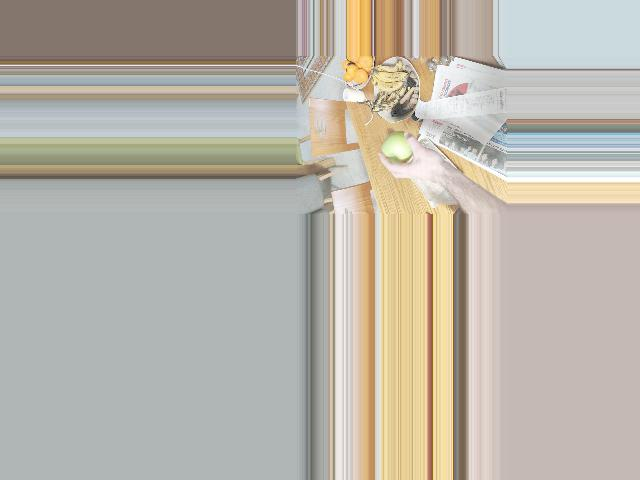apple: (379, 132, 416, 165)
